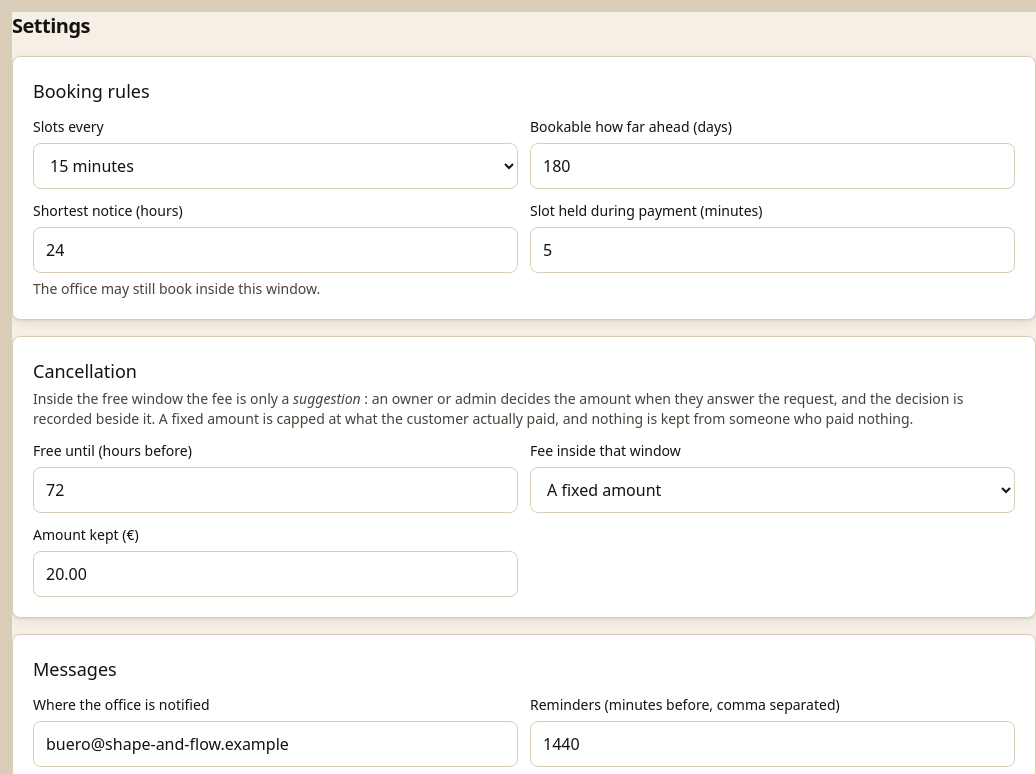
Test: SettingsPage › fills both amounts from what is stored
The width and height of the screenshot is (1036, 774).
Expected: the field with test id "fee-amount" holds "20.00", [33, 551, 518, 597]
Select "A share of what was paid" in the dropdown with test id "fee-policy": point(772, 490) [530, 467, 1015, 513]
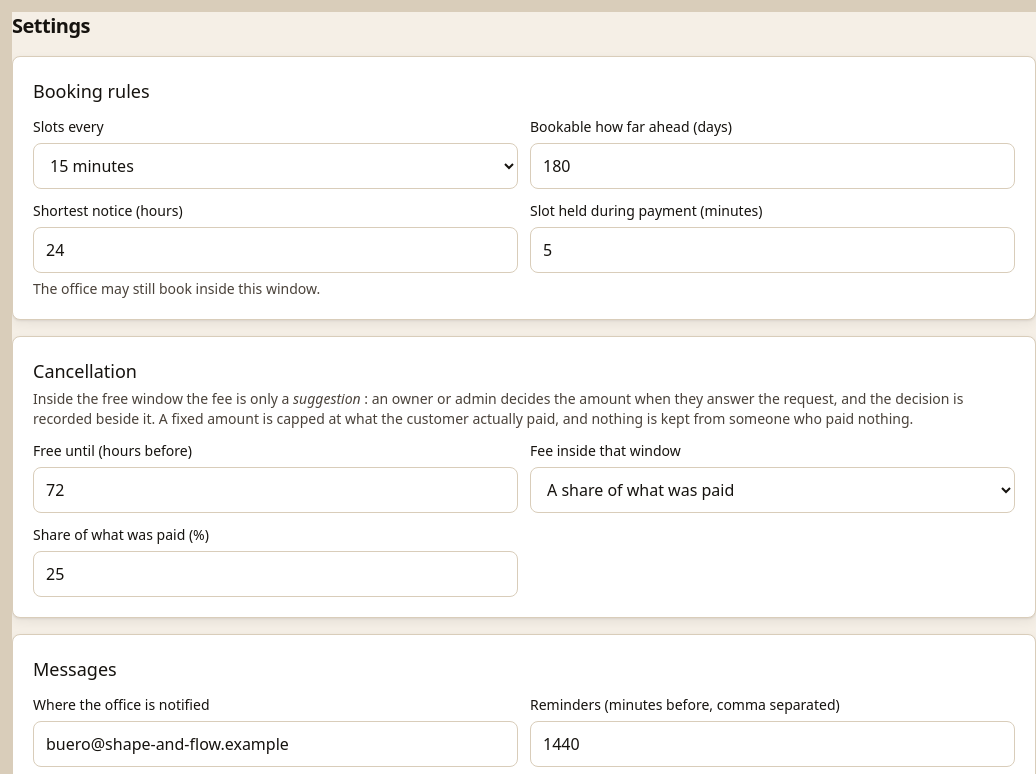
Now the number field with test id "fee-percent" holds "25", box [33, 551, 518, 597]
